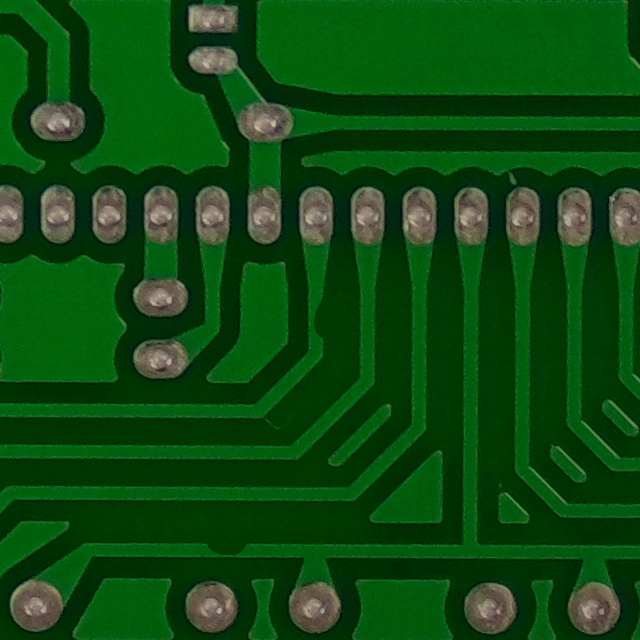mouse_bite: (189, 525, 266, 572), (298, 285, 342, 356)
